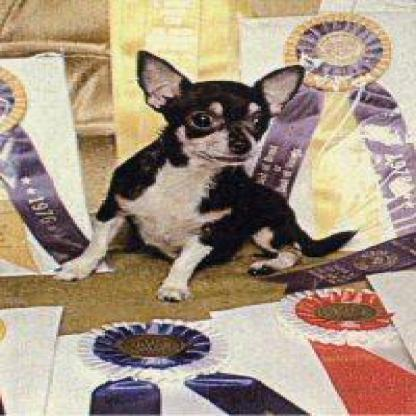dog: (90, 47, 350, 280)
